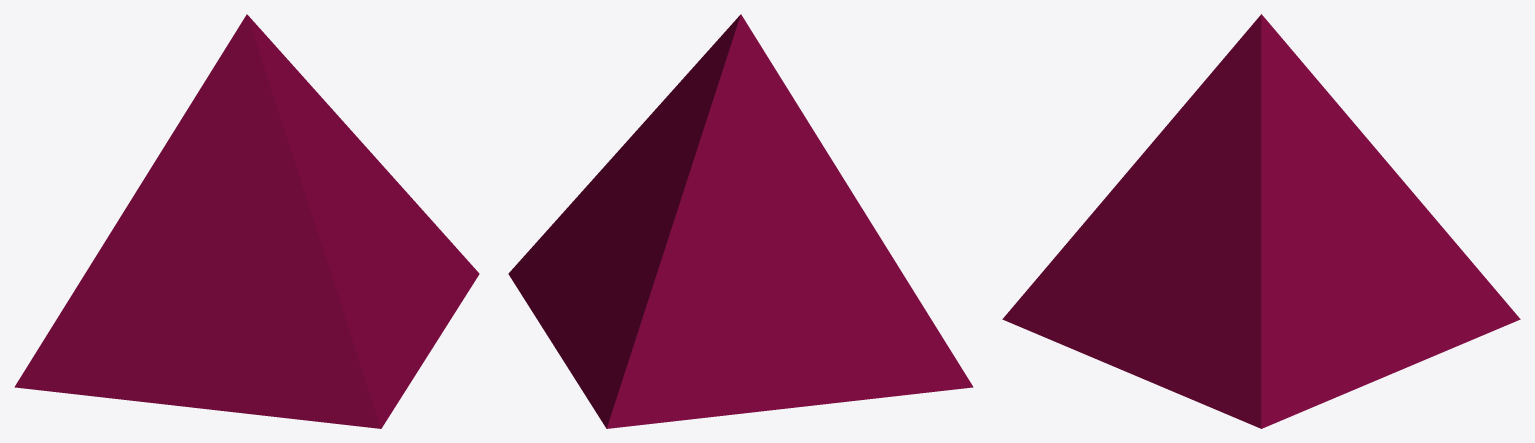
Rendered from seed-top.fbx.
The picture shows the model from 3 angles, left to right: view 1: azimuth 30°, elevation 25°; view 2: azimuth 150°, elevation 25°; view 3: azimuth 270°, elevation 25°; orthographic projection. The views are drawn at different scales.
Visible parts, largest first — view 1: pPyramid2; view 2: pPyramid2; view 3: pPyramid2.
Boxes of the visible parts, x1,y1,x2,y2 form: pPyramid2: (14,14,479,428); pPyramid2: (508,14,973,428); pPyramid2: (1002,14,1520,428).
Size of the model in its own units: 6 by 3.9 by 6.
